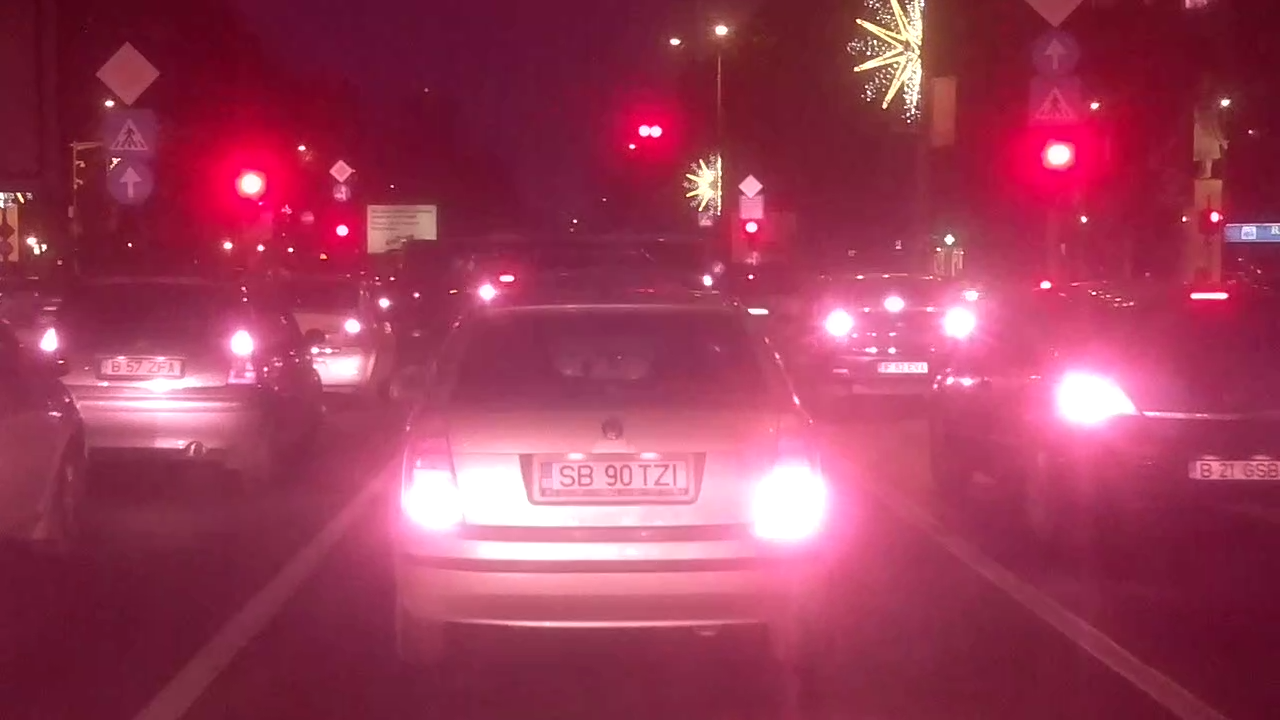license-plate: (532, 454, 692, 496), (1183, 454, 1280, 485), (95, 352, 185, 380), (872, 359, 933, 376)
